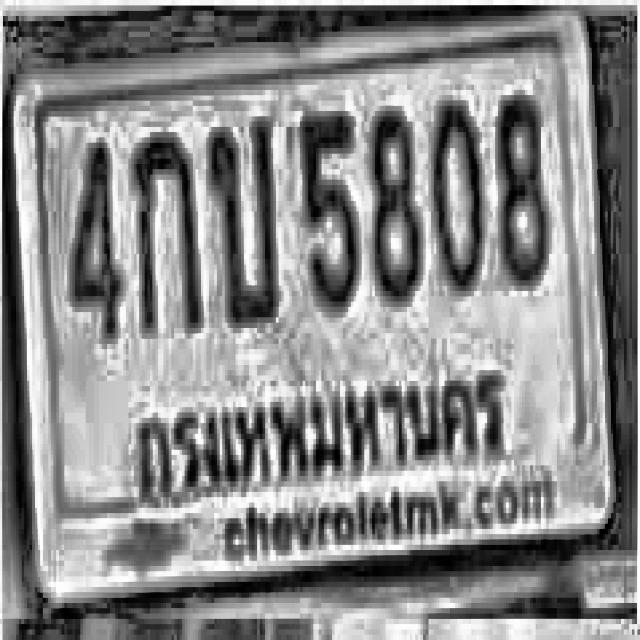license-plate: (0, 6, 626, 618)
